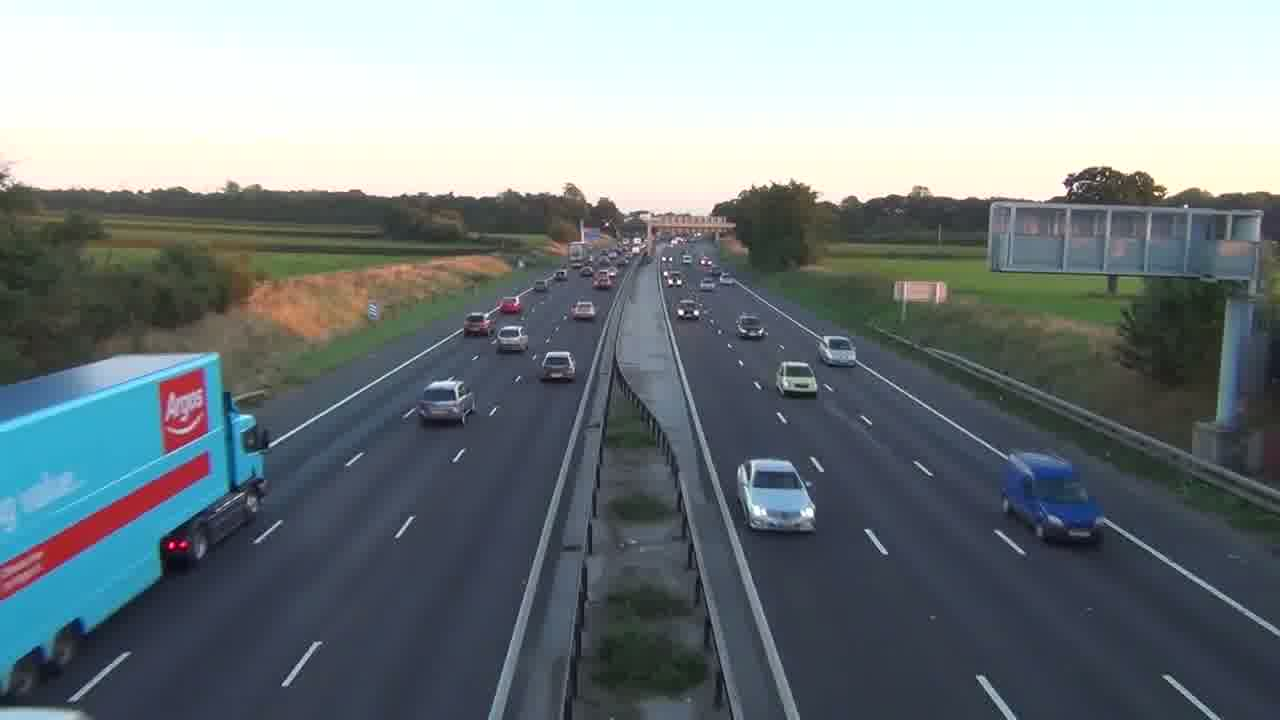car: (736, 457, 817, 533), (775, 360, 819, 399), (816, 335, 857, 368), (736, 312, 768, 340)
truck: (1, 351, 271, 698), (1000, 449, 1105, 545)
